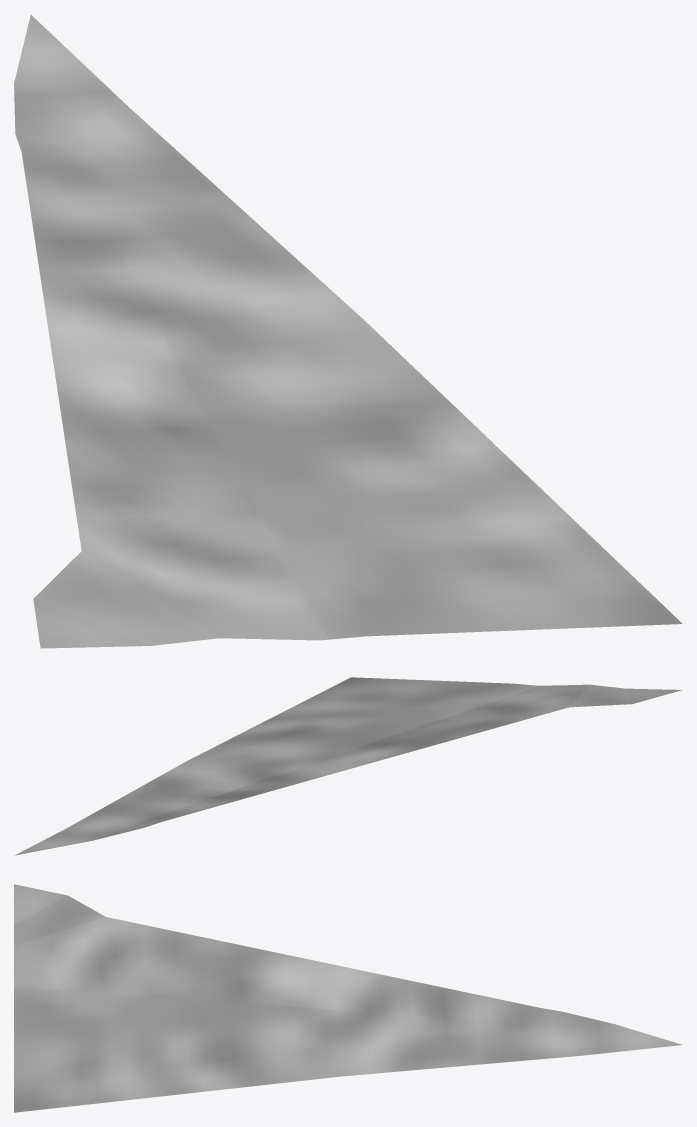
3 renders of one model, top to bottom at view 1: azimuth 30°, elevation 25°; view 2: azimuth 150°, elevation 25°; view 3: azimuth 270°, elevation 25°, orthographic. The views are drawn at different scales.
Bounding box in the file's own units: 0.164 × 0.0323 × 0.2884.
Materials: 1 (1 with a texture image).
